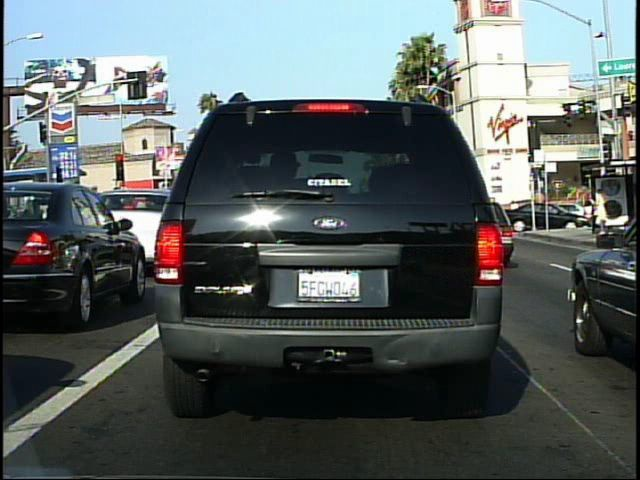person: (590, 183, 609, 237), (509, 198, 522, 226)
